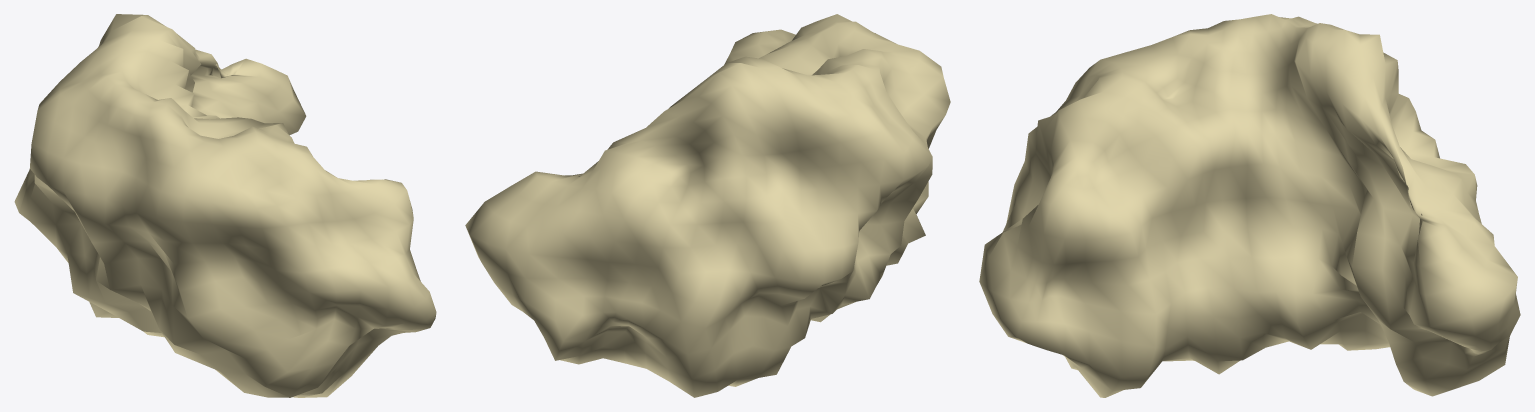
File: LimeStone.fbx
3 views of the same model, side by side, from view 1: azimuth 30°, elevation 25°; view 2: azimuth 150°, elevation 25°; view 3: azimuth 270°, elevation 25° (orthographic). The views are drawn at different scales.
Parts seen in each view (by area): view 1: Cube; view 2: Cube; view 3: Cube.
Part boxes in pixels (box(x1,y1,x2,y2)): Cube: box(14, 14, 436, 397); Cube: box(465, 14, 950, 397); Cube: box(979, 14, 1520, 397).
Bounding box in the file's own units: 1024 × 872 × 1293.
